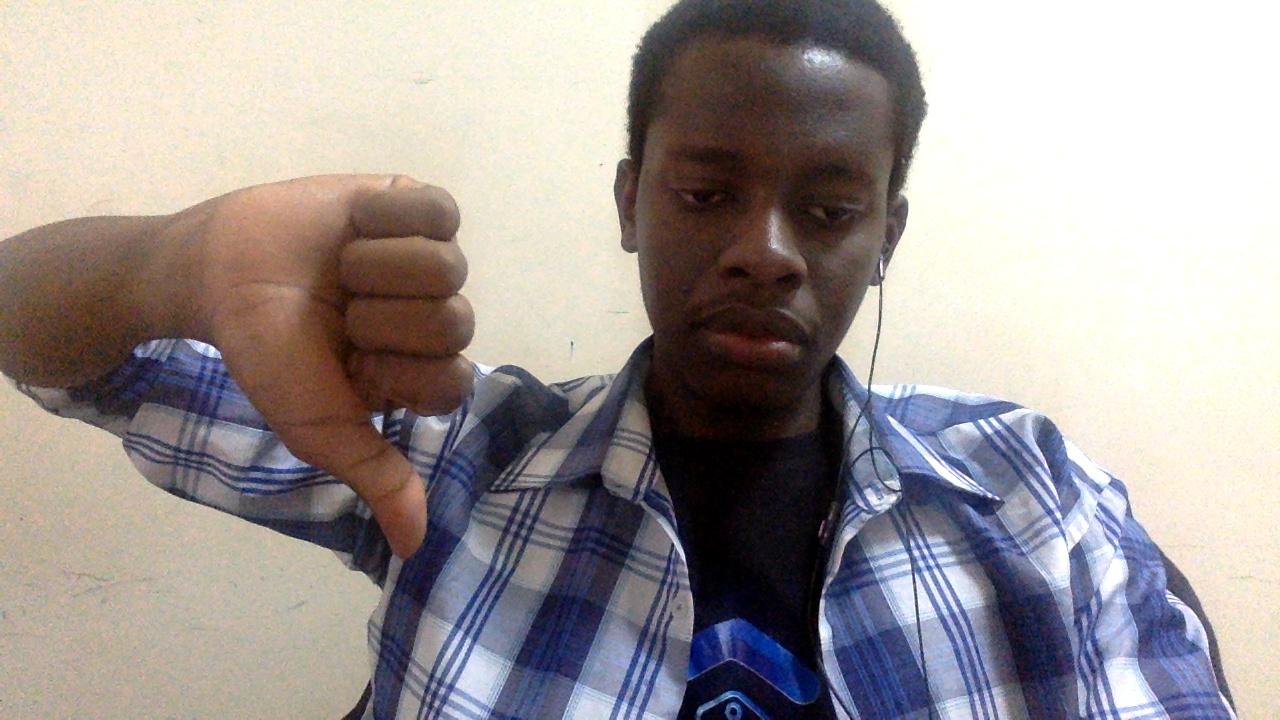ThumbsDown: (207, 171, 478, 563)
